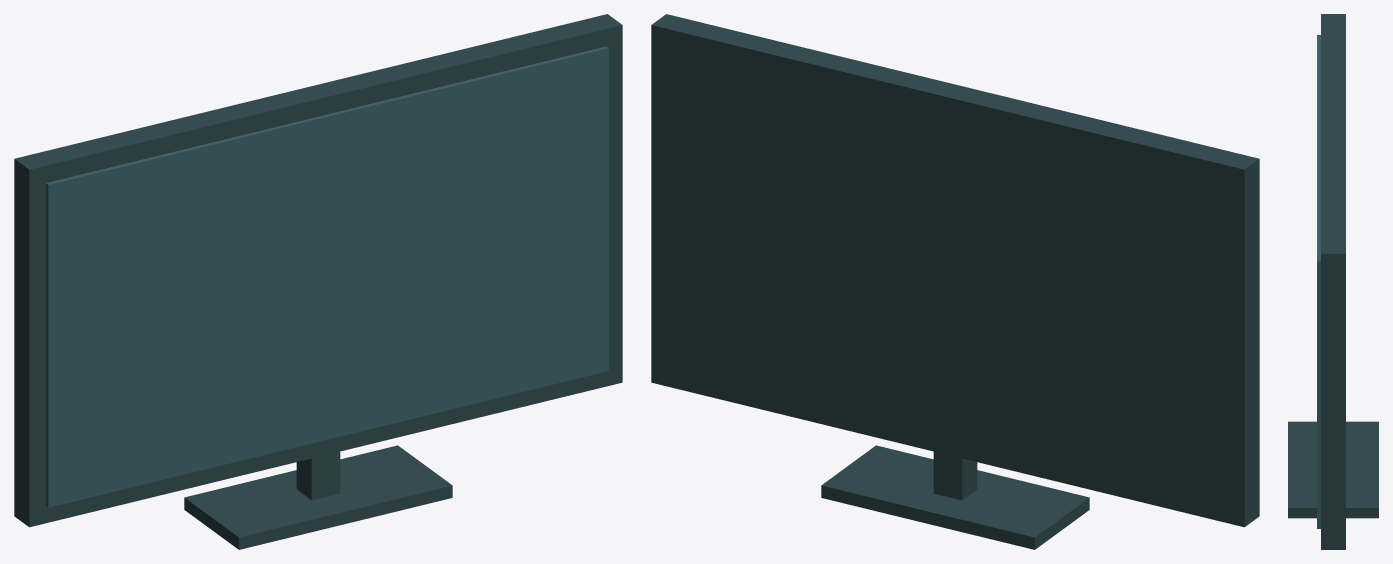
Rendered from smart_tv.glb.
The picture shows the model from 3 angles, left to right: view 1: azimuth 30°, elevation 25°; view 2: azimuth 150°, elevation 25°; view 3: azimuth 270°, elevation 25°; orthographic projection. The views are drawn at different scales.
Visible parts, largest first — view 1: STATE_SCREEN, bezel, stand-foot, stand-neck; view 2: bezel, stand-foot, stand-neck; view 3: bezel, stand-foot, STATE_SCREEN.
Part boxes in pixels (box(x1,y1,x2,y2)): STATE_SCREEN: box(46, 46, 608, 507); bezel: box(14, 14, 622, 527); stand-foot: box(184, 445, 452, 549); stand-neck: box(296, 451, 340, 500); bezel: box(651, 14, 1259, 527); stand-foot: box(821, 445, 1089, 549); stand-neck: box(933, 451, 977, 500); bezel: box(1321, 14, 1345, 549); stand-foot: box(1288, 421, 1378, 518); STATE_SCREEN: box(1317, 35, 1320, 528).
Size of the model in its own units: 1.25 by 0.8295 by 0.2.
